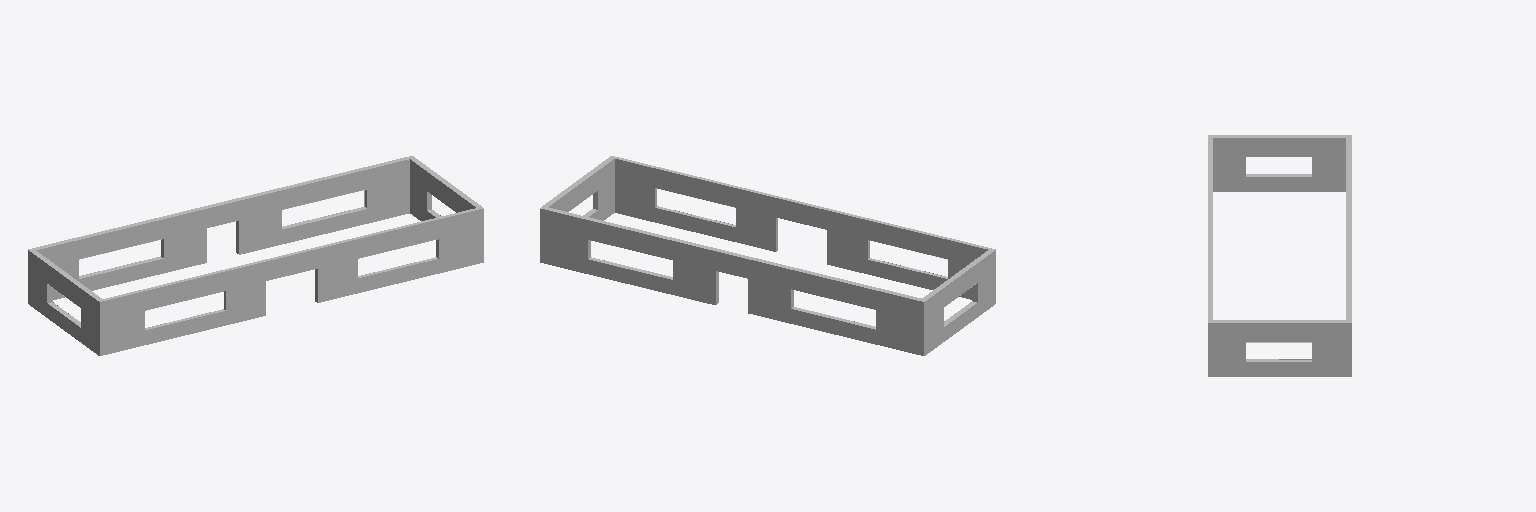
Rendered from entryWalls.obj.
3 renders of one model, left to right at view 1: azimuth 30°, elevation 25°; view 2: azimuth 150°, elevation 25°; view 3: azimuth 270°, elevation 25°, orthographic.
Parts seen in each view (by area): view 1: entryWalls_Cube.021; view 2: entryWalls_Cube.021; view 3: entryWalls_Cube.021.
Part boxes in pixels (x1,y1,x2,y2): entryWalls_Cube.021: (28,156,483,355); entryWalls_Cube.021: (540,156,995,355); entryWalls_Cube.021: (1208,135,1351,376).
Bounding box in the file's own units: 54.03 × 7.28 × 17.51.